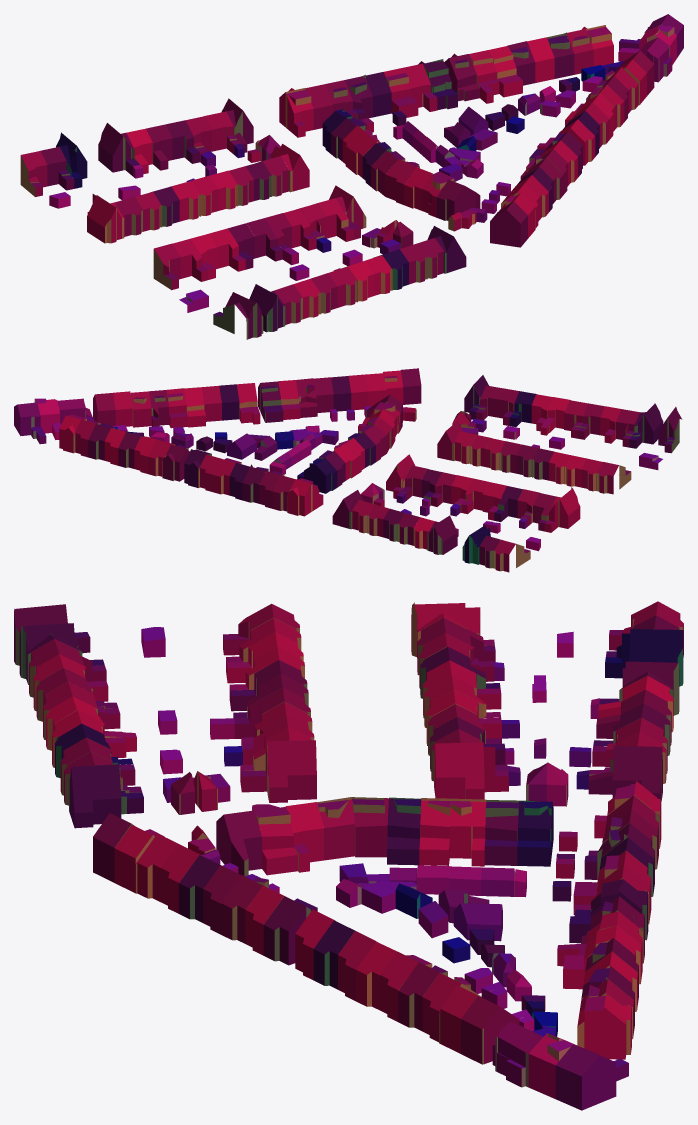
The model's file is buildings_5_5.glb.
3 views of the same model, one above another, from view 1: azimuth 30°, elevation 25°; view 2: azimuth 150°, elevation 25°; view 3: azimuth 270°, elevation 25° (orthographic). The views are drawn at different scales.
Parts seen in each view (by area): view 1: buildings_5_5; view 2: buildings_5_5; view 3: buildings_5_5.
Part boxes in pixels (box(x1,y1,x2,y2)): buildings_5_5: box(20, 14, 683, 339); buildings_5_5: box(14, 368, 682, 572); buildings_5_5: box(14, 601, 683, 1110).
Size of the model in its own units: 185 by 10.15 by 111.
